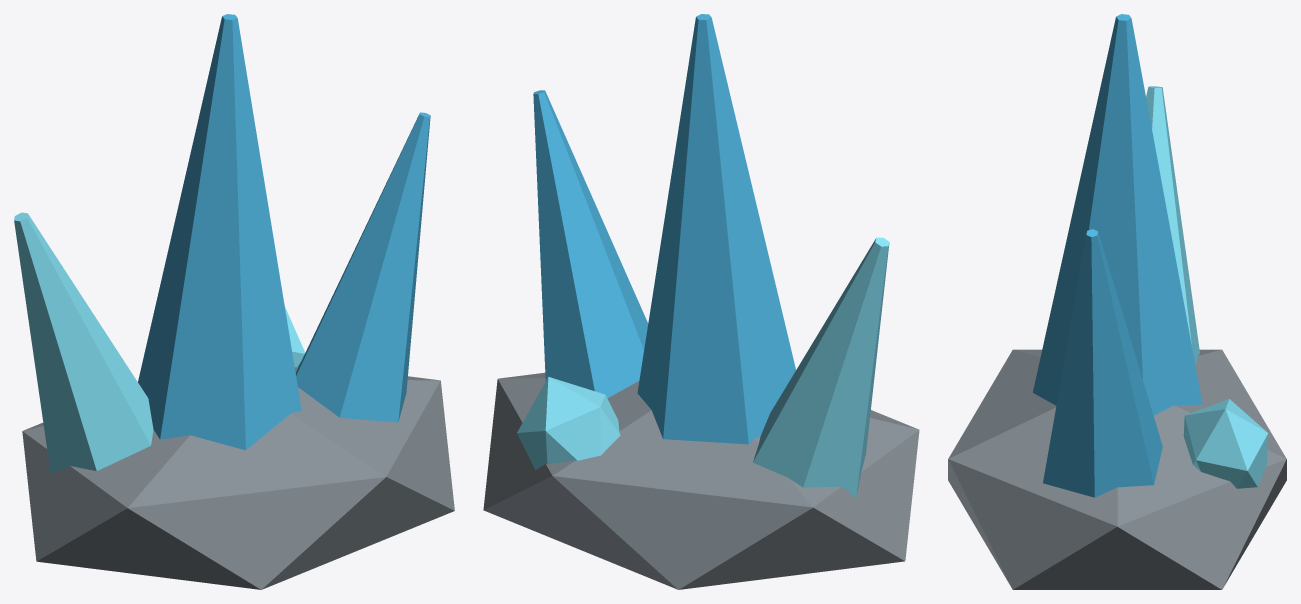
File: aether-crystal-node.glb
3 renders of one model, left to right at view 1: azimuth 30°, elevation 25°; view 2: azimuth 150°, elevation 25°; view 3: azimuth 270°, elevation 25°, orthographic.
Visible parts, largest first — view 1: Crystal_Base_Rock, Crystal_Spike_Main, Crystal_Spike_Right, Crystal_Spike_Left; view 2: Crystal_Base_Rock, Crystal_Spike_Main, Crystal_Spike_Right, Crystal_Spike_Left, Crystal_Fragment_A; view 3: Crystal_Base_Rock, Crystal_Spike_Main, Crystal_Spike_Right, Crystal_Fragment_A, Crystal_Spike_Left.
Boxes of the visible parts, box(x1,y1,x2,y2) form: Crystal_Base_Rock: box(22, 367, 454, 589); Crystal_Spike_Main: box(138, 14, 301, 450); Crystal_Spike_Right: box(296, 112, 430, 422); Crystal_Spike_Left: box(14, 212, 153, 473); Crystal_Base_Rock: box(483, 372, 919, 589); Crystal_Spike_Main: box(637, 14, 795, 444); Crystal_Spike_Right: box(533, 90, 648, 398); Crystal_Spike_Left: box(753, 237, 889, 497); Crystal_Fragment_A: box(517, 377, 620, 470); Crystal_Base_Rock: box(948, 349, 1286, 589); Crystal_Spike_Main: box(1033, 14, 1202, 415); Crystal_Spike_Right: box(1043, 229, 1162, 497); Crystal_Fragment_A: box(1183, 399, 1268, 488); Crystal_Spike_Left: box(1146, 86, 1199, 365).
Bounding box in the file's own units: 1.48 × 1.89 × 1.07.
